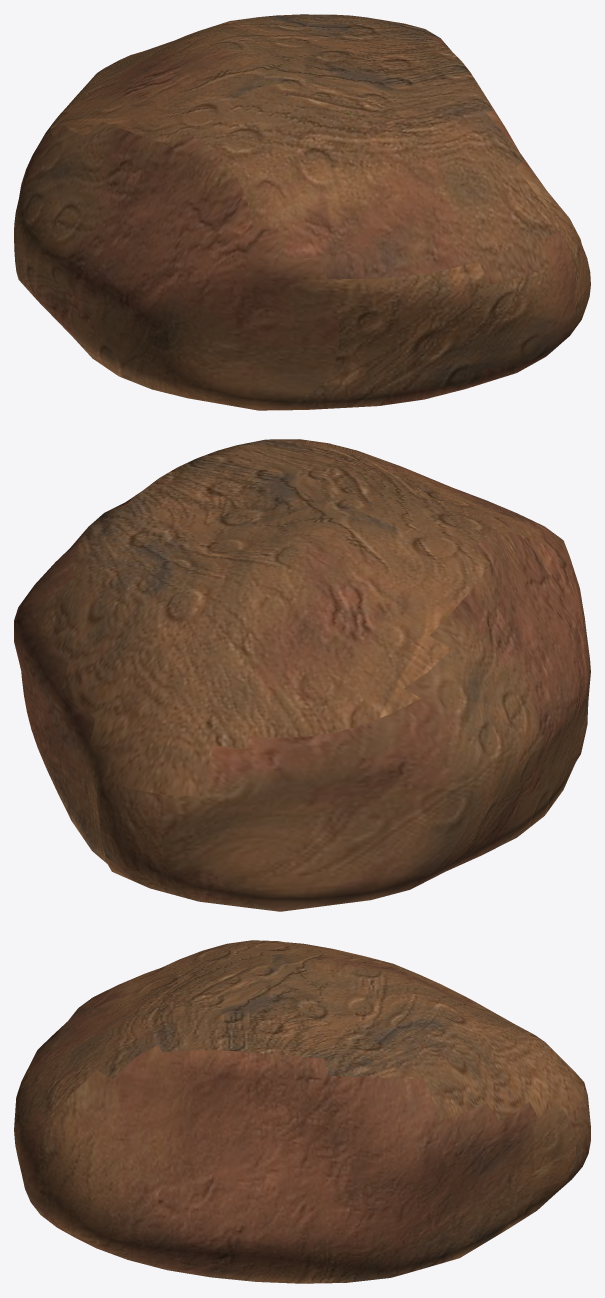
Rendered from MarsRock10.obj.
The picture shows the model from 3 angles, top to bottom: view 1: azimuth 30°, elevation 25°; view 2: azimuth 150°, elevation 25°; view 3: azimuth 270°, elevation 25°; orthographic projection. The views are drawn at different scales.
Parts seen in each view (by area): view 1: Rocks5; view 2: Rocks5; view 3: Rocks5.
Boxes of the visible parts, x1=… form: Rocks5: x1=14, y1=14, x2=590, y2=410; Rocks5: x1=14, y1=439, x2=590, y2=911; Rocks5: x1=14, y1=940, x2=590, y2=1283.
Bounding box in the file's own units: 0.9124 × 0.5431 × 1.15.
1 material, 1 textured.
